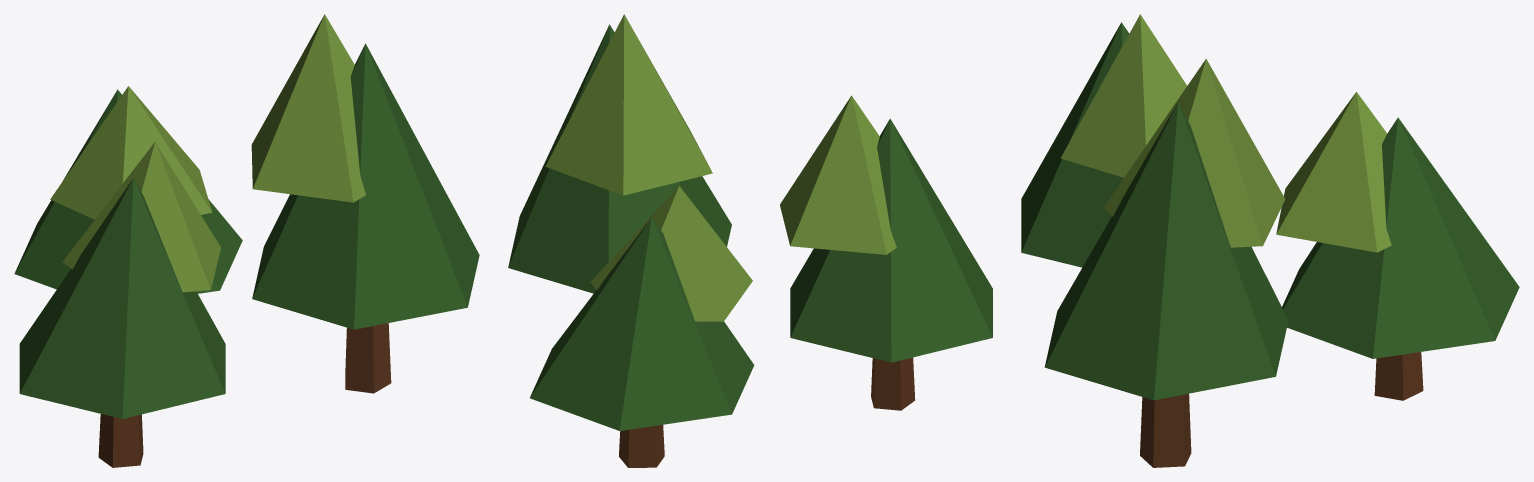
Rendered from TreeGrove.fbx.
3 renders of one model, left to right at view 1: azimuth 30°, elevation 25°; view 2: azimuth 150°, elevation 25°; view 3: azimuth 270°, elevation 25°, orthographic. The views are drawn at different scales.
Visible parts, largest first — view 1: TreeGrove; view 2: TreeGrove; view 3: TreeGrove.
Part boxes in pixels (box(x1,y1,x2,y2)): TreeGrove: box(14, 14, 479, 467); TreeGrove: box(508, 14, 992, 467); TreeGrove: box(1021, 14, 1519, 467).
Size of the model in its own units: 83.35 by 61.2 by 71.33.
